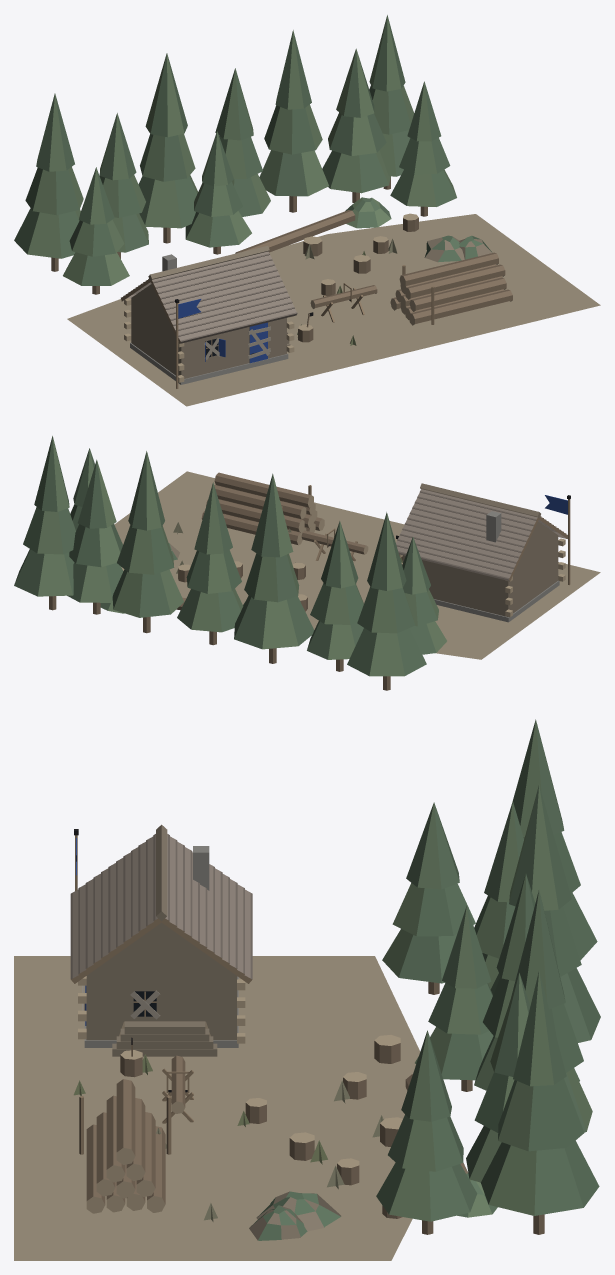
The model's file is holzschlag.glb.
3 views of the same model, one above another, from view 1: azimuth 30°, elevation 25°; view 2: azimuth 150°, elevation 25°; view 3: azimuth 270°, elevation 25° (orthographic). The views are drawn at different scales.
Visible parts, largest first — view 1: Haus, Arbeit, Leerstand, Fahne; view 2: Haus, Arbeit, Fahne; view 3: Haus, Arbeit, Leerstand.
Boxes of the visible parts, x1,y1,x2,y2 form: Haus: (14,15,600,406); Arbeit: (235,197,512,345); Leerstand: (204,239,398,359); Fahne: (175,299,201,388); Haus: (14,436,600,690); Arbeit: (100,472,402,613); Fahne: (545,495,570,584); Haus: (14,719,600,1260); Arbeit: (79,1021,497,1217); Leerstand: (73,985,383,1221).
Bounding box in the file's own units: 22 × 9.65 × 17.89.
